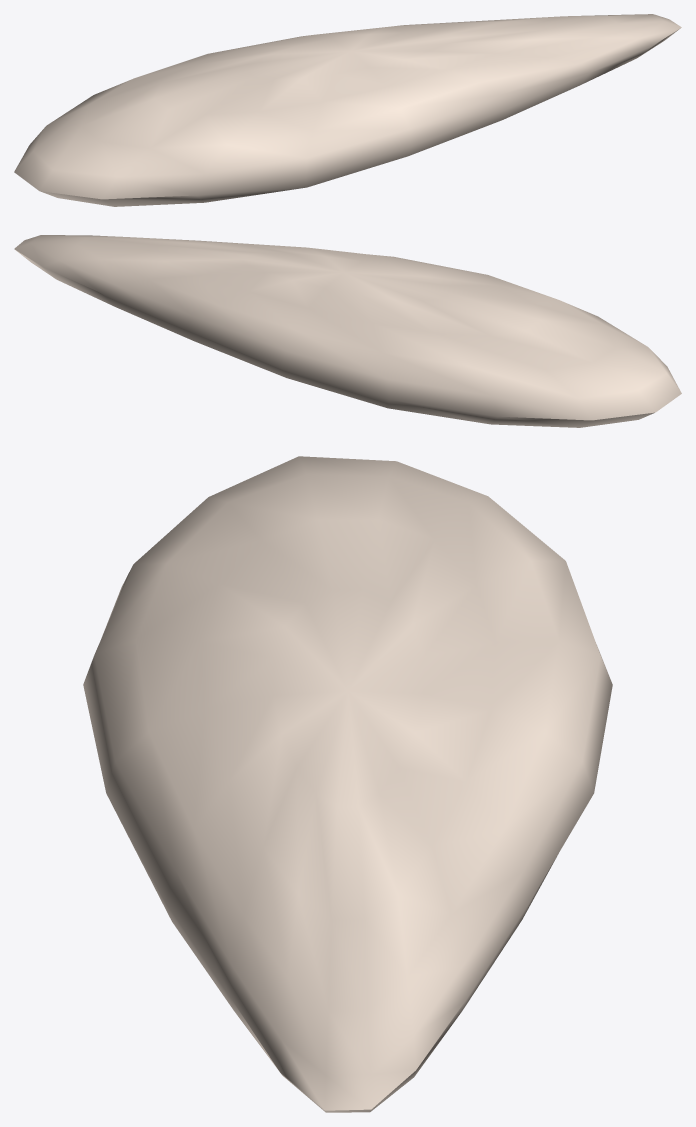
File: fogtail_carp_fillet.glb
3 renders of one model, top to bottom at view 1: azimuth 30°, elevation 25°; view 2: azimuth 150°, elevation 25°; view 3: azimuth 270°, elevation 25°, orthographic. The views are drawn at different scales.
Visible parts, largest first — view 1: fogtail_carp_fillet; view 2: fogtail_carp_fillet; view 3: fogtail_carp_fillet.
Part boxes in pixels (x1,y1,x2,y2): fogtail_carp_fillet: [14, 14, 681, 206]; fogtail_carp_fillet: [14, 235, 681, 427]; fogtail_carp_fillet: [83, 456, 612, 1112].
Bounding box in the file's own units: 0.17 × 0.018 × 0.06.
